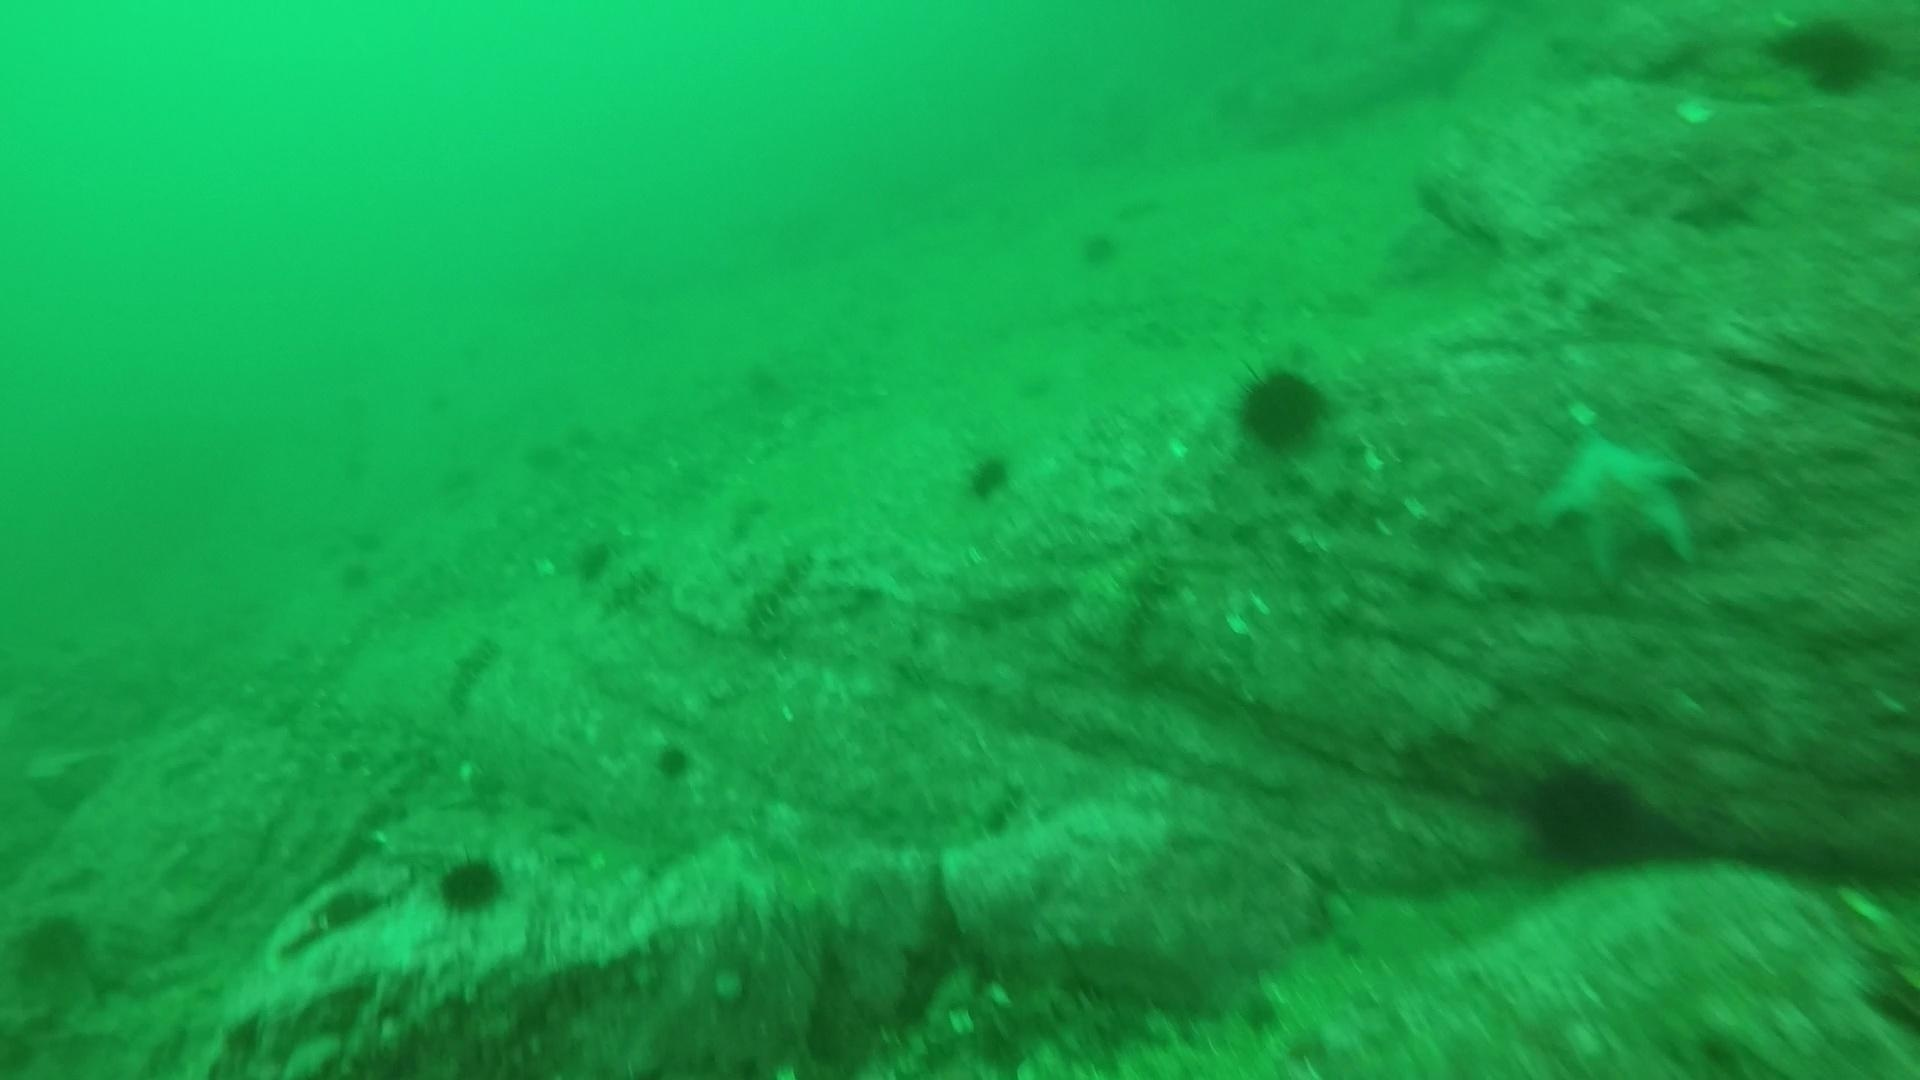echinus: (1515, 756, 1651, 876), (1763, 11, 1892, 102), (1226, 357, 1336, 459), (9, 905, 98, 985), (429, 847, 514, 924), (957, 446, 1018, 504), (1073, 223, 1126, 272), (649, 735, 702, 781), (550, 415, 603, 462), (572, 541, 625, 585), (327, 550, 380, 595), (434, 462, 487, 506), (516, 439, 568, 484), (745, 360, 798, 405)
holothurian: (517, 905, 683, 1000), (741, 543, 815, 641), (1102, 549, 1178, 641), (953, 767, 1029, 853), (429, 632, 504, 716), (591, 556, 663, 622)
starfish: (1524, 411, 1709, 587), (1665, 164, 1768, 237)
